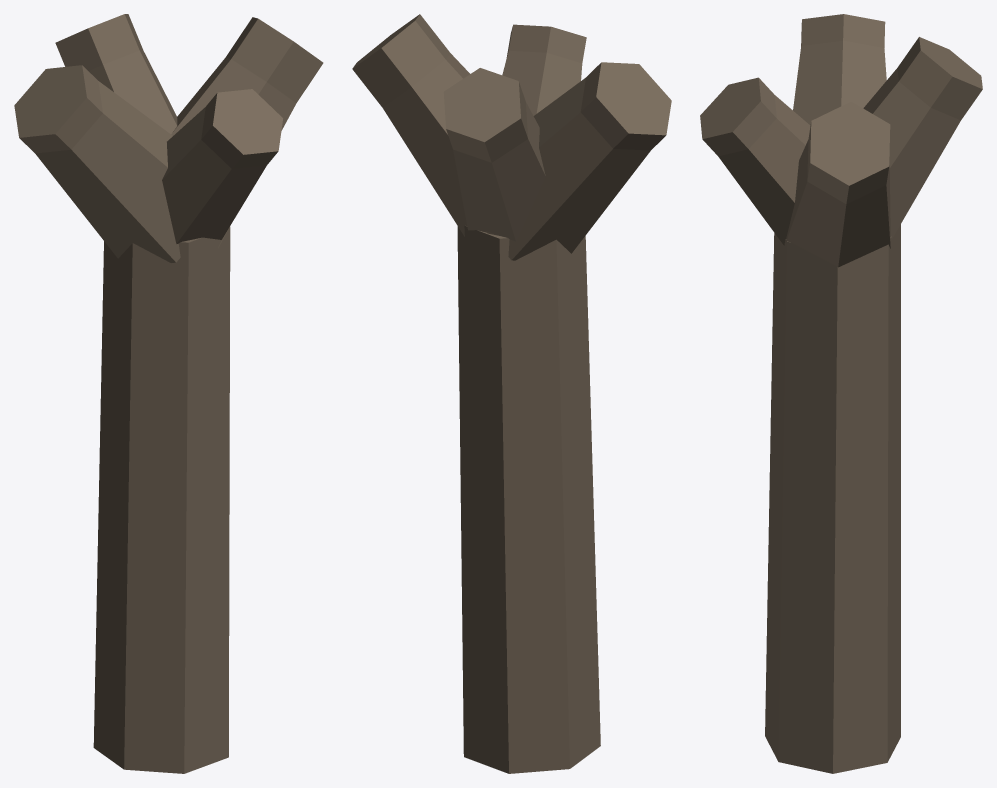
File: lacrypta_tree.glb
The picture shows the model from 3 angles, left to right: view 1: azimuth 30°, elevation 25°; view 2: azimuth 150°, elevation 25°; view 3: azimuth 270°, elevation 25°; orthographic projection.
Parts seen in each view (by area): view 1: DeadTree; view 2: DeadTree; view 3: DeadTree.
Part boxes in pixels (x1,y1,x2,y2): DeadTree: [14, 14, 323, 773]; DeadTree: [352, 14, 671, 773]; DeadTree: [700, 14, 982, 773].
Size of the model in its own units: 7.22 by 15.98 by 5.88.
